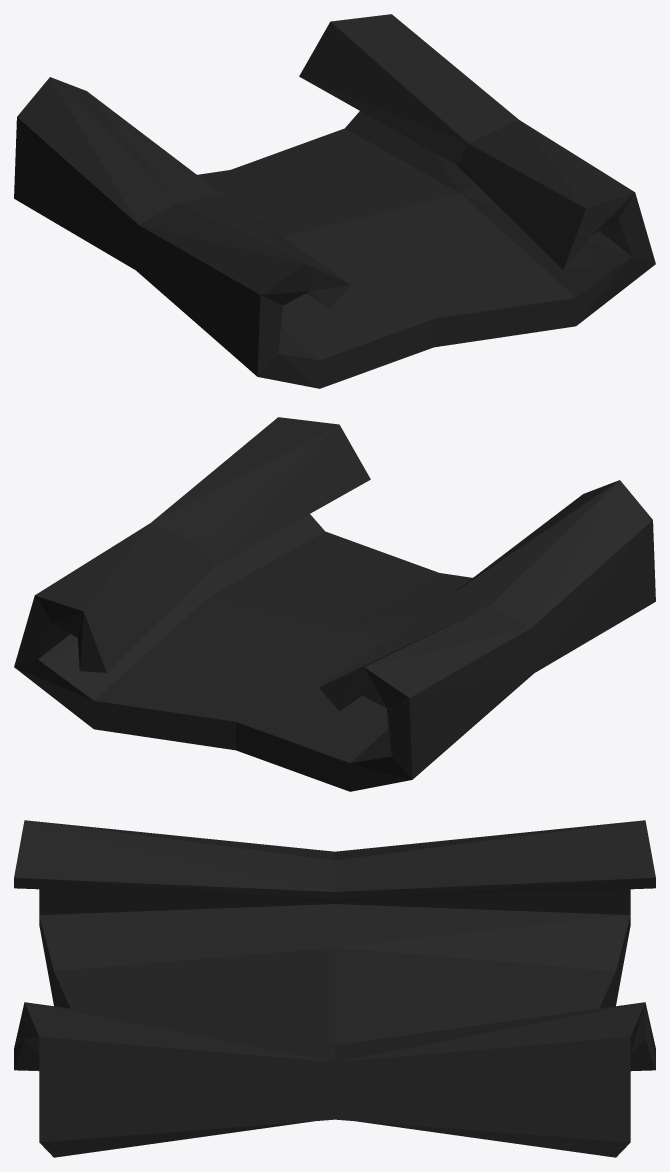
File: SM_Item_Map_03.glb
3 views of the same model, one above another, from view 1: azimuth 30°, elevation 25°; view 2: azimuth 150°, elevation 25°; view 3: azimuth 270°, elevation 25° (orthographic). The views are drawn at different scales.
Visible parts, largest first — view 1: SM_Item_Map_03_00; view 2: SM_Item_Map_03_00; view 3: SM_Item_Map_03_00.
Boxes of the visible parts, x1=… form: SM_Item_Map_03_00: x1=14, y1=14, x2=655, y2=388; SM_Item_Map_03_00: x1=14, y1=417, x2=655, y2=791; SM_Item_Map_03_00: x1=14, y1=820, x2=655, y2=1157.
Bounding box in the file's own units: 0.3798 × 0.1275 × 0.4363.
1 material, 1 textured.
